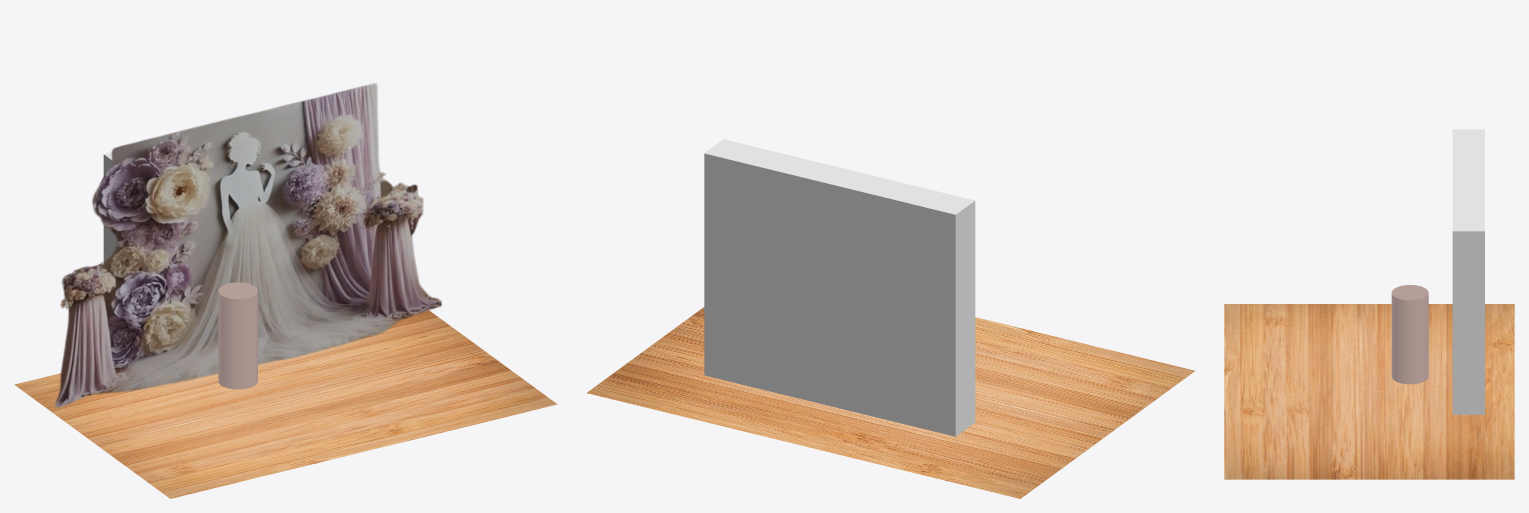
Rendered from grand-birthday-party.glb.
3 views of the same model, side by side, from view 1: azimuth 30°, elevation 25°; view 2: azimuth 150°, elevation 25°; view 3: azimuth 270°, elevation 25° (orthographic). The views are drawn at different scales.
Parts seen in each view (by area): view 1: Plane (×2), Cylinder; view 2: Box, Plane; view 3: Plane, Box, Cylinder.
Boxes of the visible parts, x1,y1,x2,y2 form: Plane (×2): (14,83,557,498); Cylinder: (218,282,257,389); Box: (704,139,975,436); Plane: (587,307,1195,498); Plane: (1224,304,1514,479); Box: (1452,129,1484,414); Cylinder: (1391,285,1428,384).
Bounding box in the file's own units: 6.27 × 4.98 × 4.28.
4 materials, 2 textured.
